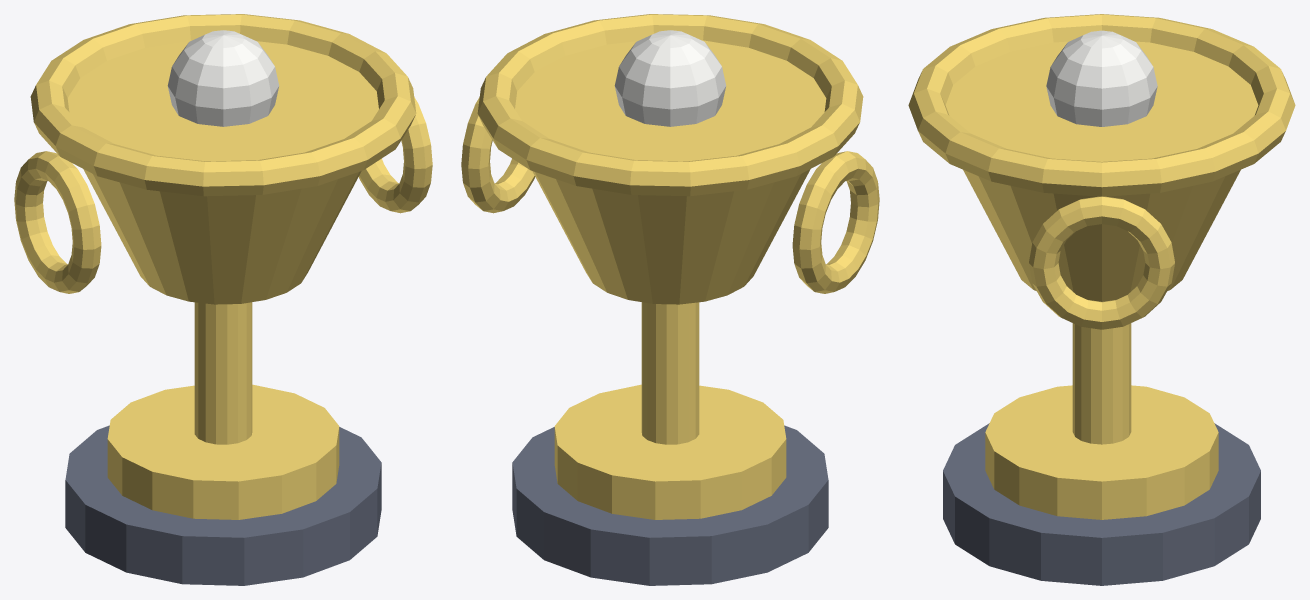
Rendered from trophy.glb.
3 views of the same model, side by side, from view 1: azimuth 30°, elevation 25°; view 2: azimuth 150°, elevation 25°; view 3: azimuth 270°, elevation 25° (orthographic).
Visible parts, largest first — view 1: Trophy; view 2: Trophy; view 3: Trophy.
Boxes of the visible parts, x1,y1,x2,y2 form: Trophy: (14,14,432,585); Trophy: (461,14,879,585); Trophy: (908,14,1295,585).
Bounding box in the file's own units: 0.776 × 1 × 0.73.
